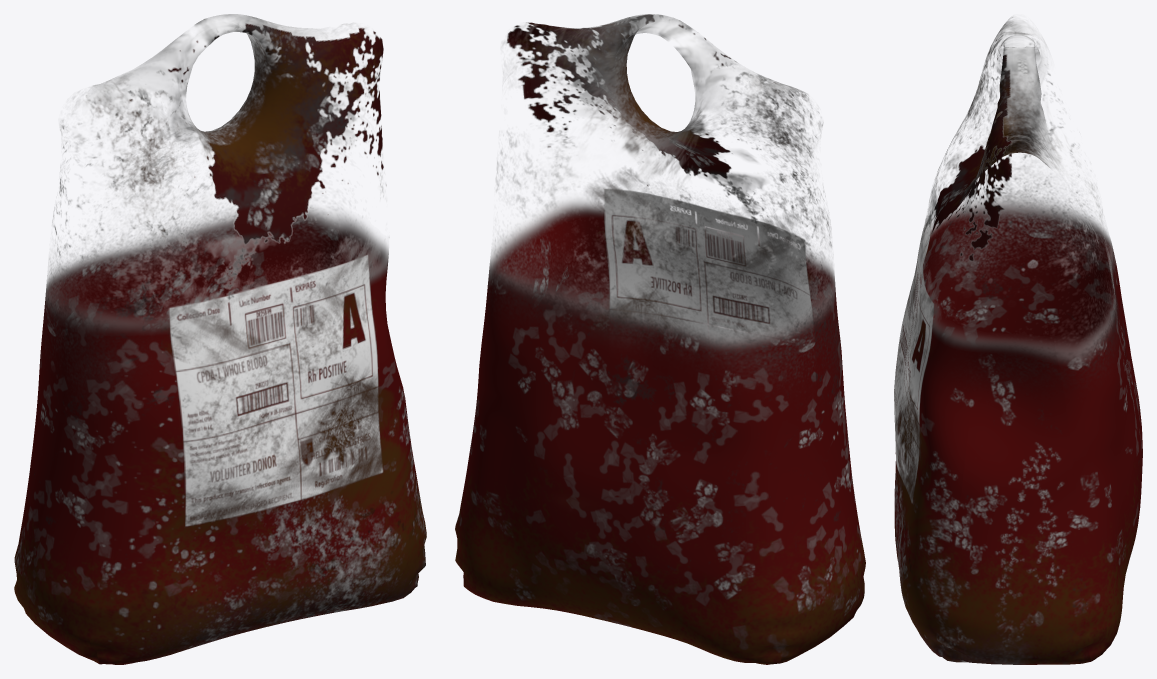
File: blood.glb
The picture shows the model from 3 angles, left to right: view 1: azimuth 30°, elevation 25°; view 2: azimuth 150°, elevation 25°; view 3: azimuth 270°, elevation 25°; orthographic projection. The views are drawn at different scales.
Parts seen in each view (by area): view 1: Box001; view 2: Box001; view 3: Box001.
Part boxes in pixels (x1,y1,x2,y2): Box001: (14, 14, 426, 664); Box001: (455, 14, 865, 664); Box001: (894, 16, 1142, 664).
Size of the model in its own units: 2.03 by 3.06 by 1.26.
Materials: 1 (1 with a texture image).
